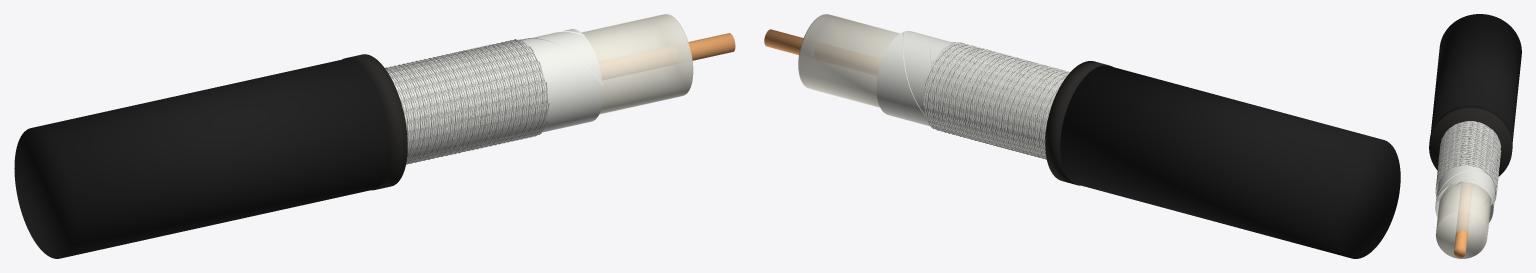
File: rf-canare-l4cfb.glb
3 renders of one model, left to right at view 1: azimuth 30°, elevation 25°; view 2: azimuth 150°, elevation 25°; view 3: azimuth 270°, elevation 25°, orthographic. The views are drawn at different scales.
Visible parts, largest first — view 1: matte black pvc jacket body, duobond foil sleeve, gas injected foam dielectric, smooth dielectric skin, jacket cut lip, solid center conductor continuous, braid left hand carrier 11, braid left hand carrier 12, braid left hand carrier 09, braid left hand carrier 08, braid left hand carrier 14, braid left hand carrier 06 (+22 smaller); view 2: matte black pvc jacket body, duobond foil sleeve, gas injected foam dielectric, smooth dielectric skin, jacket cut lip, braid left hand carrier 08, braid left hand carrier 05, braid left hand carrier 06, braid left hand carrier 09, braid left hand carrier 03, solid center conductor continuous, braid left hand carrier 02 (+22 smaller); view 3: matte black pvc jacket body, gas injected foam dielectric, jacket cut lip, smooth dielectric skin, duobond foil sleeve, solid center conductor continuous, braid left hand carrier 03, braid left hand carrier 06, braid left hand carrier 09, braid left hand carrier 08, braid left hand carrier 14, braid left hand carrier 12 (+23 smaller).
Boxes of the visible parts, left/top/right/bottom form: matte black pvc jacket body: left=14, top=58, right=390, bottom=258; duobond foil sleeve: left=388, top=29, right=602, bottom=161; gas injected foam dielectric: left=582, top=14, right=693, bottom=113; smooth dielectric skin: left=581, top=14, right=691, bottom=114; jacket cut lip: left=342, top=54, right=407, bottom=190; solid center conductor continuous: left=688, top=33, right=735, bottom=60; braid left hand carrier 11: left=392, top=39, right=538, bottom=160; braid left hand carrier 12: left=394, top=39, right=540, bottom=162; braid left hand carrier 09: left=388, top=40, right=534, bottom=160; braid left hand carrier 08: left=386, top=41, right=532, bottom=160; braid left hand carrier 14: left=398, top=44, right=545, bottom=164; braid left hand carrier 06: left=386, top=42, right=527, bottom=161; matte black pvc jacket body: left=1060, top=65, right=1400, bottom=258; duobond foil sleeve: left=876, top=31, right=1066, bottom=154; gas injected foam dielectric: left=798, top=14, right=899, bottom=107; smooth dielectric skin: left=799, top=14, right=899, bottom=107; jacket cut lip: left=1045, top=61, right=1112, bottom=185; braid left hand carrier 08: left=924, top=44, right=1068, bottom=157; braid left hand carrier 05: left=930, top=46, right=1062, bottom=159; braid left hand carrier 06: left=928, top=45, right=1065, bottom=158; braid left hand carrier 09: left=923, top=44, right=1069, bottom=155; braid left hand carrier 03: left=934, top=47, right=1058, bottom=158; solid center conductor continuous: left=764, top=29, right=803, bottom=54; braid left hand carrier 02: left=936, top=47, right=1062, bottom=155; matte black pvc jacket body: left=1431, top=14, right=1521, bottom=141; gas injected foam dielectric: left=1436, top=182, right=1491, bottom=258; jacket cut lip: left=1429, top=105, right=1512, bottom=176; smooth dielectric skin: left=1436, top=182, right=1491, bottom=234; duobond foil sleeve: left=1435, top=122, right=1495, bottom=222; solid center conductor continuous: left=1454, top=212, right=1469, bottom=257; braid left hand carrier 03: left=1436, top=122, right=1500, bottom=190; braid left hand carrier 06: left=1437, top=124, right=1500, bottom=189; braid left hand carrier 09: left=1436, top=126, right=1500, bottom=194; braid left hand carrier 08: left=1436, top=125, right=1499, bottom=202; braid left hand carrier 14: left=1435, top=121, right=1500, bottom=189; braid left hand carrier 12: left=1437, top=128, right=1501, bottom=183.
Bounding box in the file's own units: 6.52 × 1.14 × 1.27.
